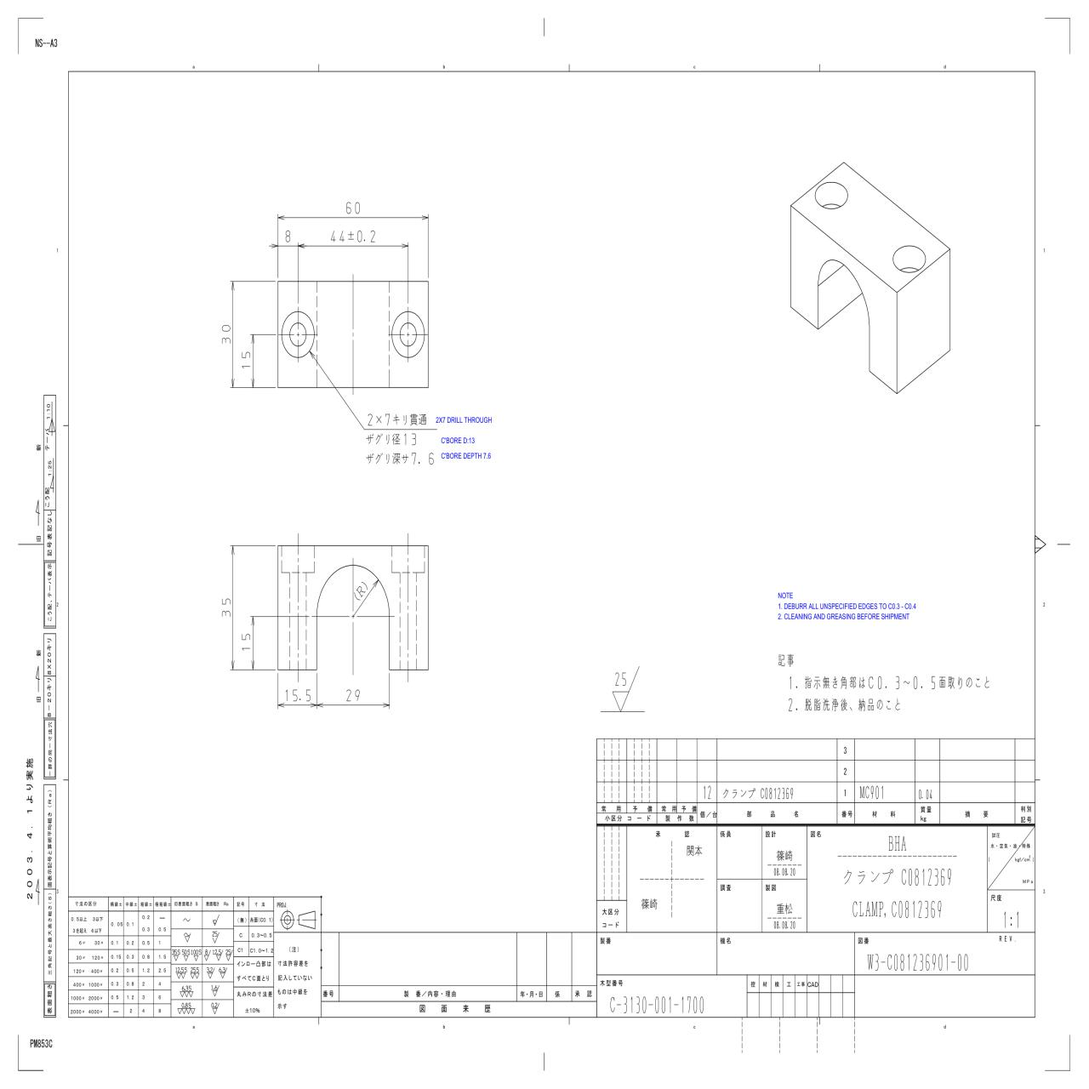basic_dimension: (331, 230, 375, 242), (286, 689, 311, 702), (346, 689, 360, 702), (346, 201, 360, 214), (221, 325, 230, 344), (242, 351, 251, 369), (222, 598, 230, 617), (242, 634, 250, 651), (286, 230, 290, 242)
dimension_radius_symbol: (355, 583, 367, 599)
surface_finish_symbol: (612, 666, 640, 712)
